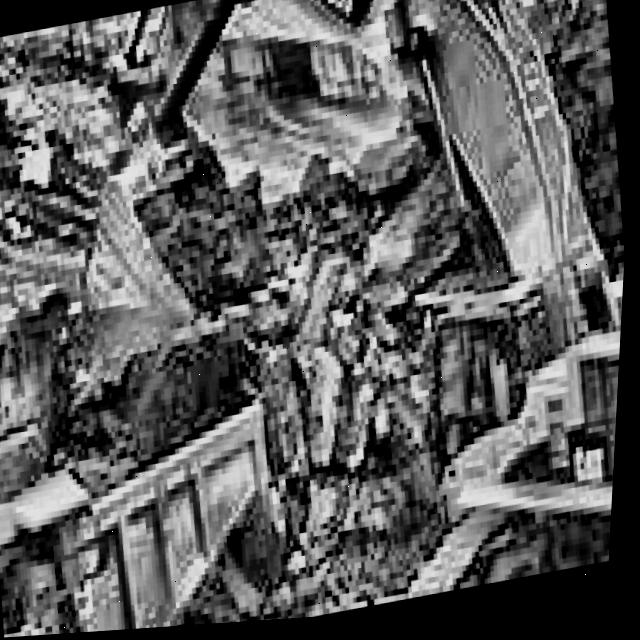dump_truck: (0, 306, 346, 640)
excavator: (36, 0, 640, 637)
